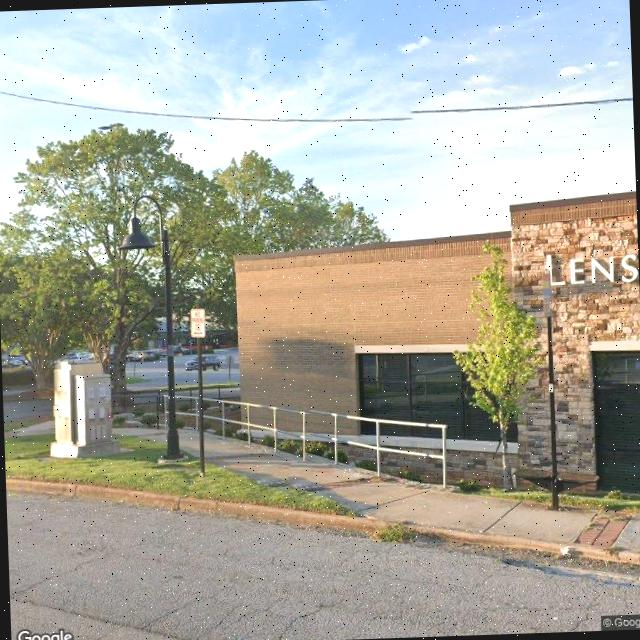seating: (514, 462, 600, 497)
